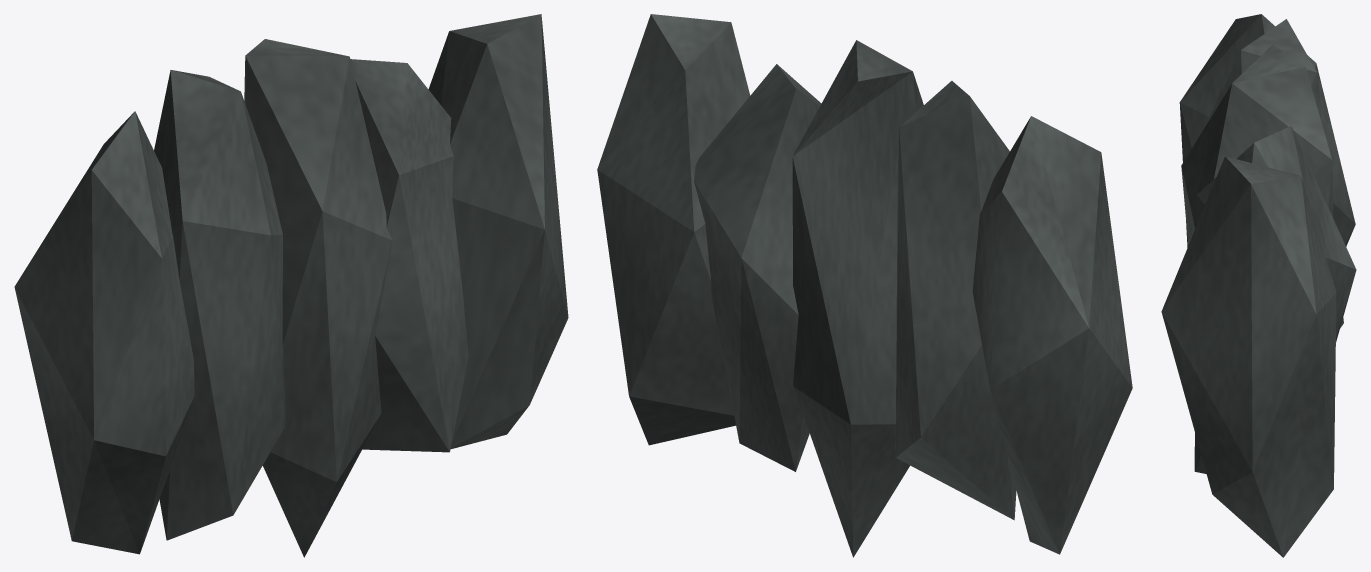
The model's file is rocks.cliff_straight.lod2.glb.
3 renders of one model, left to right at view 1: azimuth 30°, elevation 25°; view 2: azimuth 150°, elevation 25°; view 3: azimuth 270°, elevation 25°, orthographic. The views are drawn at different scales.
Parts seen in each view (by area): view 1: Cliff, Cliff.002, Cliff.001, Cliff.004, Cliff.003; view 2: Cliff, Cliff.002, Cliff.004, Cliff.001, Cliff.003; view 3: Cliff.004, Cliff.002, Cliff, Cliff.003, Cliff.001.
Boxes of the visible parts, box(x1,y1,x2,y2) form: Cliff: box(14, 111, 194, 554); Cliff.002: box(244, 39, 392, 557); Cliff.001: box(154, 70, 285, 540); Cliff.004: box(428, 14, 568, 448); Cliff.003: box(350, 59, 468, 452); Cliff: box(972, 116, 1132, 554); Cliff.002: box(792, 40, 923, 557); Cliff.004: box(597, 14, 750, 445); Cliff.001: box(895, 81, 1016, 520); Cliff.003: box(694, 64, 821, 471); Cliff.004: box(1161, 156, 1336, 557); Cliff.002: box(1181, 44, 1333, 245); Cliff: box(1179, 14, 1355, 247); Cliff.003: box(1194, 126, 1356, 473); Cliff.001: box(1202, 19, 1343, 328).
Bounding box in the file's own units: 12.75 × 12.17 × 4.69.
Materials: 1 (1 with a texture image).
